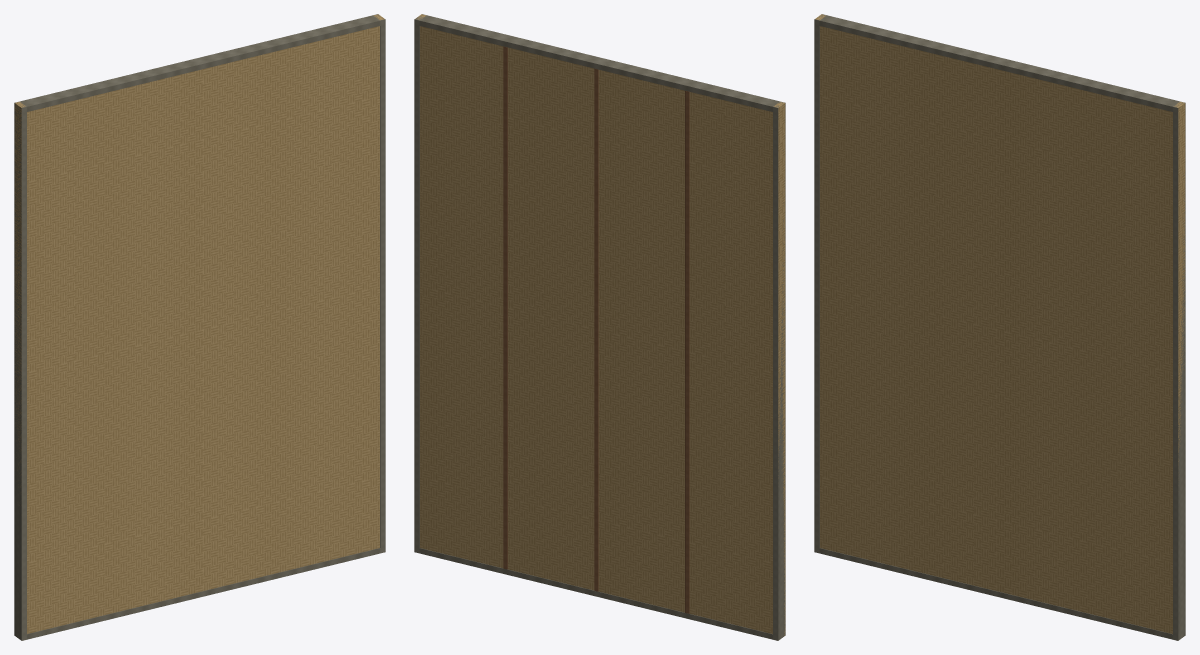
The model's file is MRP_Wall_Bamboo_2m.fbx.
3 renders of one model, left to right at view 1: azimuth 30°, elevation 25°; view 2: azimuth 150°, elevation 25°; view 3: azimuth 330°, elevation 25°, orthographic.
Visible parts, largest first — view 1: Body; view 2: Body; view 3: Body.
Part boxes in pixels (x1=…): Body: x1=14, y1=14, x2=385, y2=640; Body: x1=414, y1=14, x2=785, y2=640; Body: x1=814, y1=14, x2=1185, y2=640.
Bounding box in the file's own units: 2 × 2.8 × 0.07.
